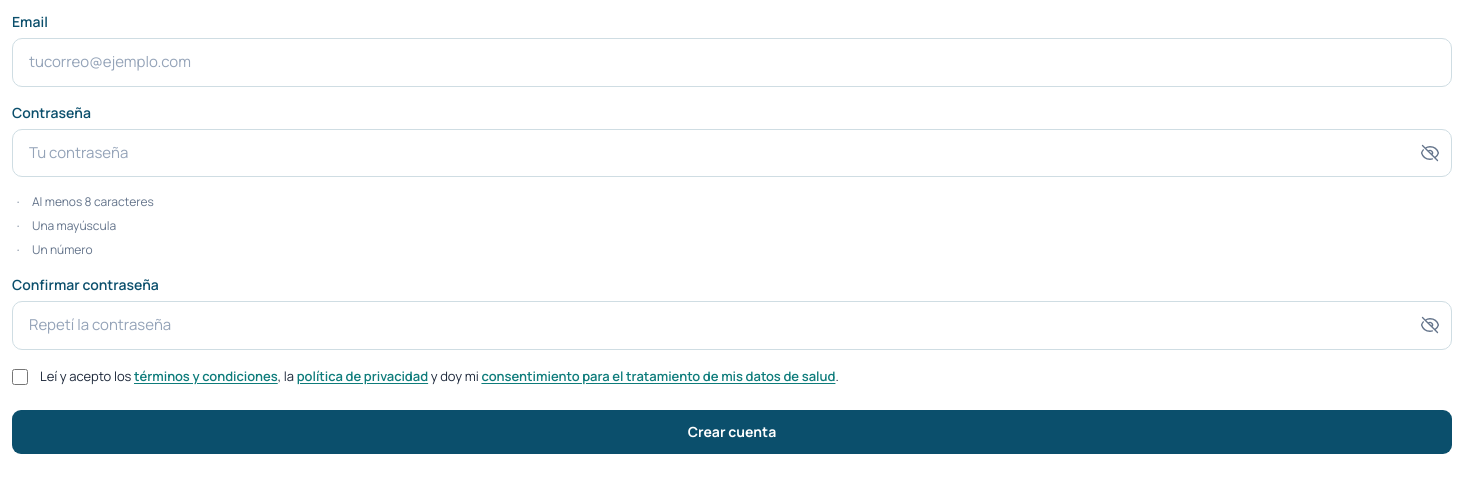
Test: RegisterForm › no envía el registro sin aceptar los textos legales (ENG-140)
Type "user@test.com" into the field labelled "Email" at (732,62), box [12,38,1452,86]
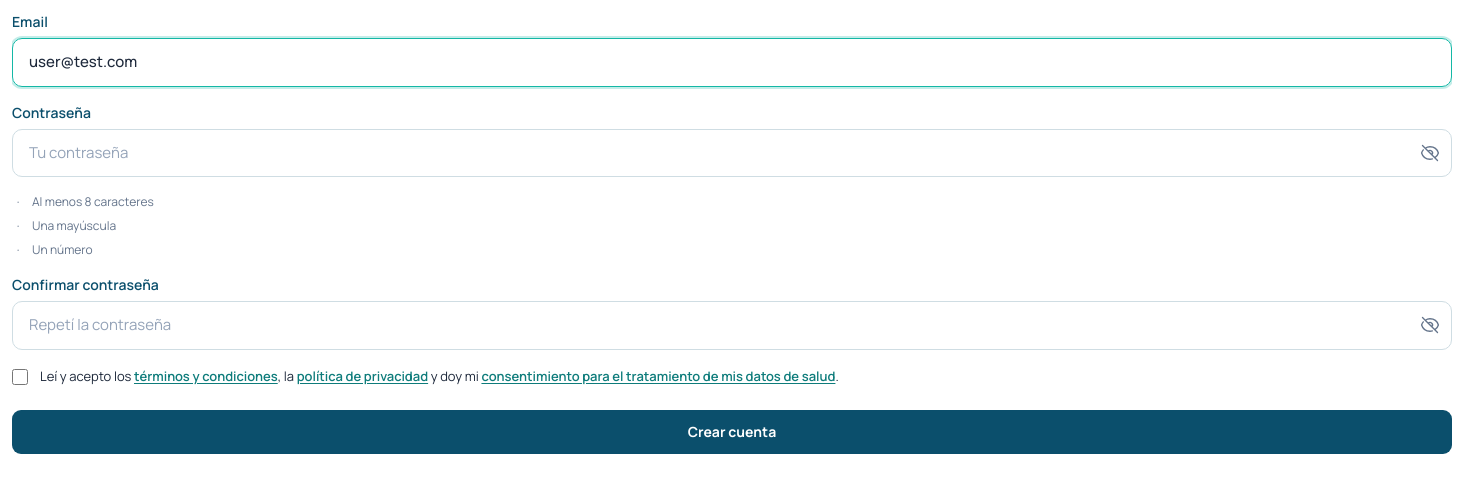
Type "Password1" into the password field labelled "Contraseña" at (732,153), box [12,128,1452,177]
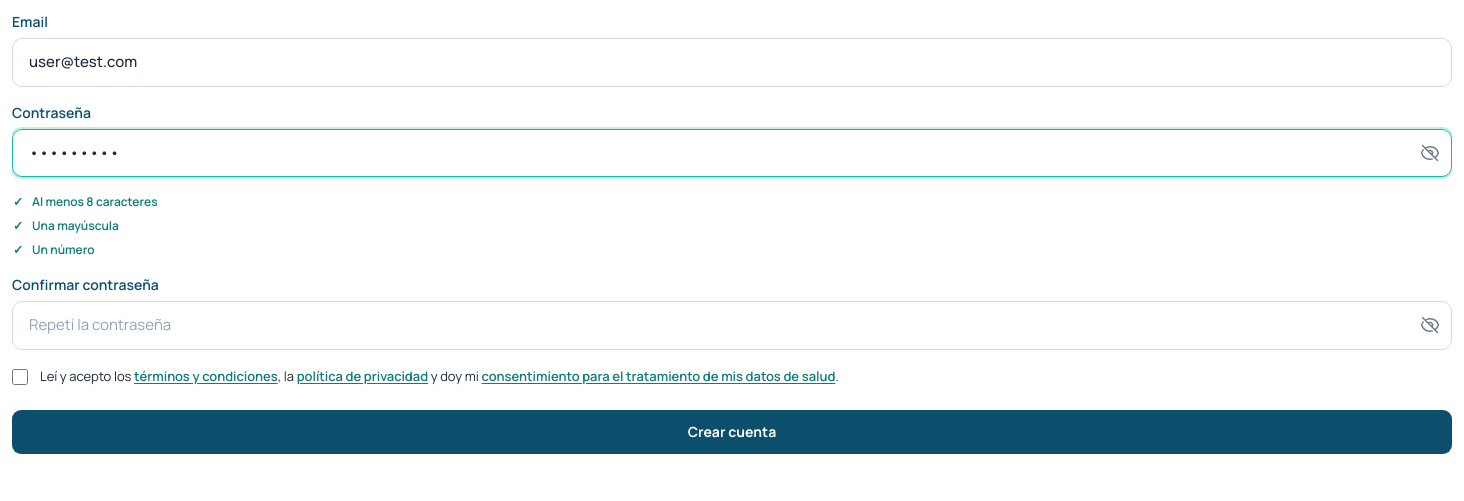
Type "Password1" into the password field labelled "Confirmar contraseña" at (732,325), box [12,301,1452,350]
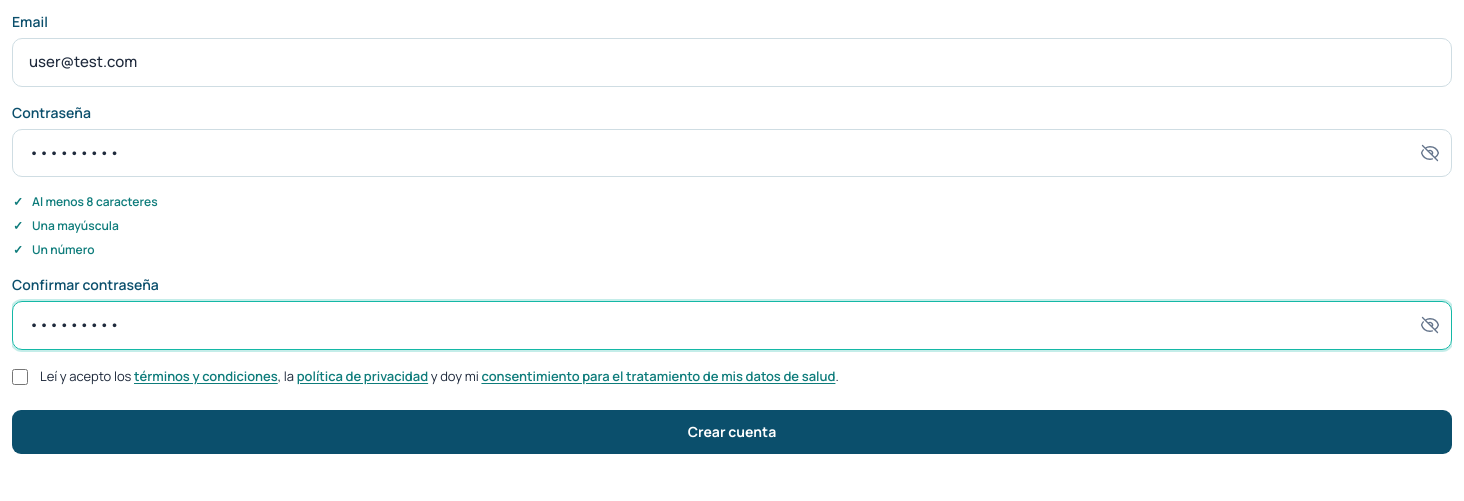
Click the button "Crear cuenta" at (732,432), box [12,410,1452,454]
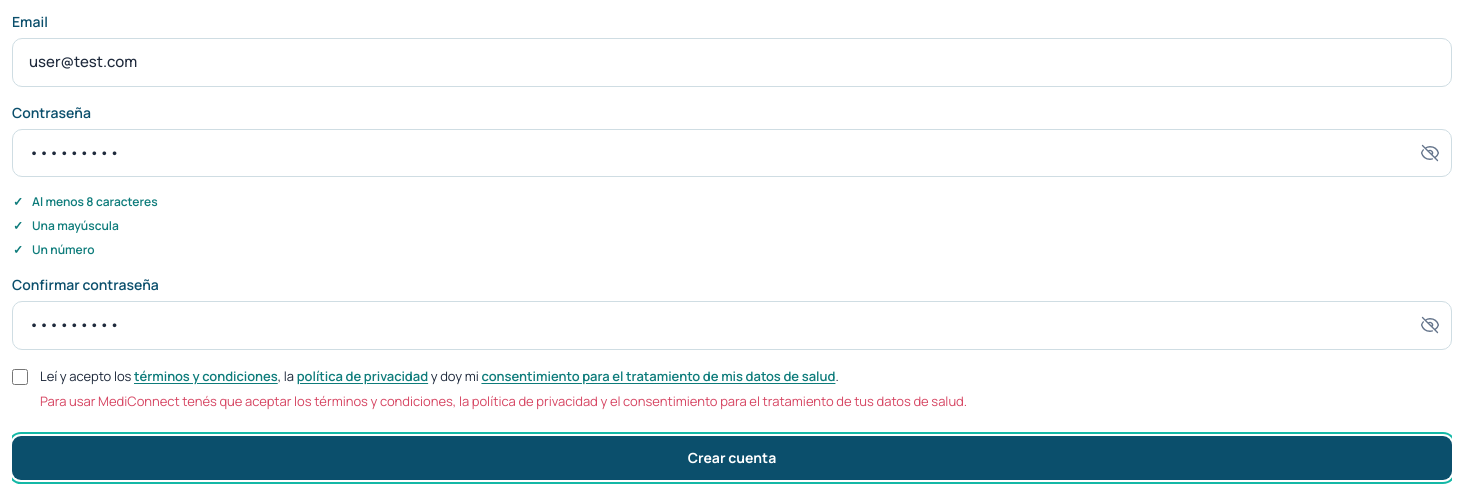
Now the message shows "consentimiento para el tratamiento", box [40,392,967,410]
